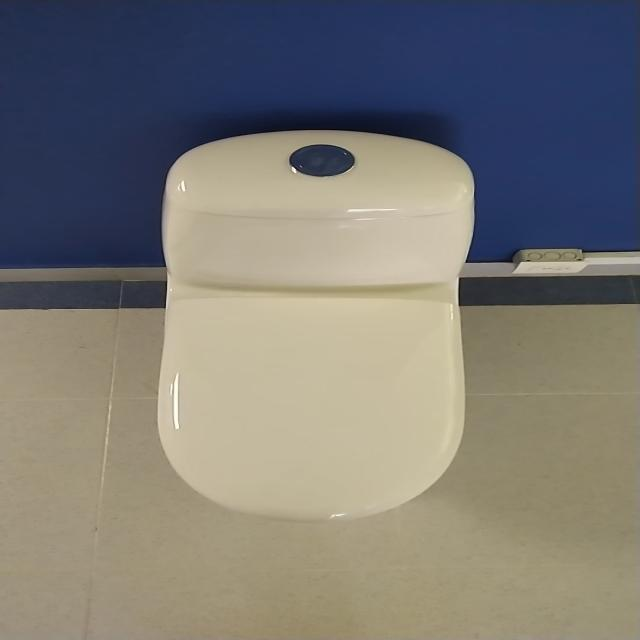toilet: (145, 122, 477, 523)
